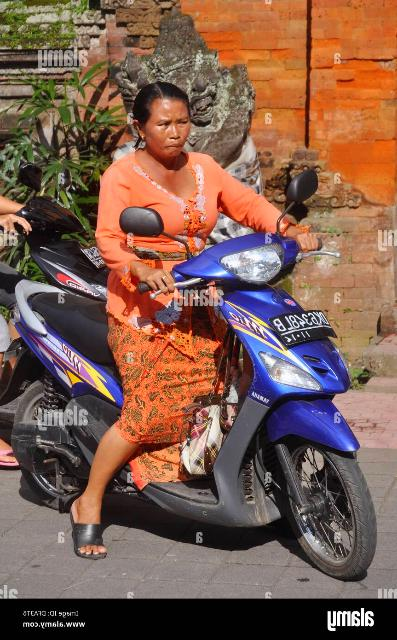motor: (8, 165, 379, 583)
non-helm: (131, 81, 195, 168)
